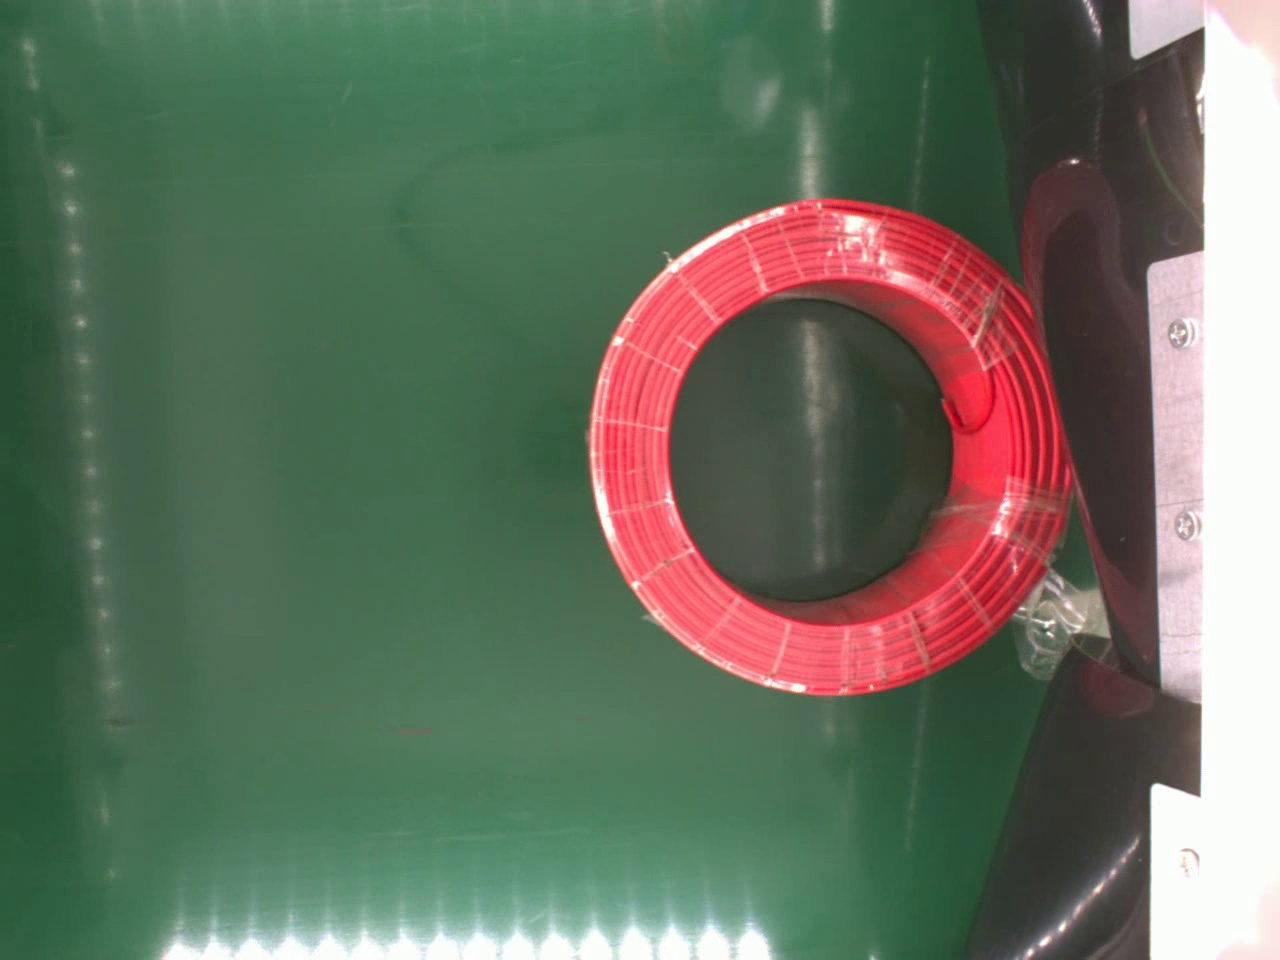red: (585, 196, 1066, 693)
